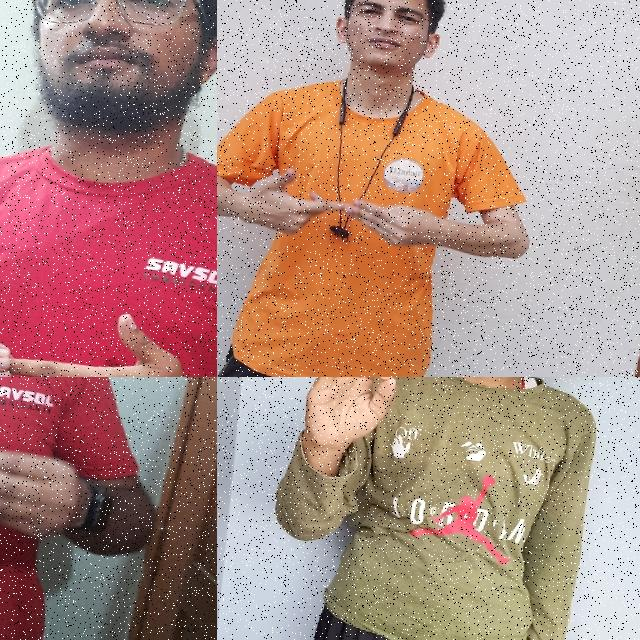Five Fathers: (233, 150, 479, 276), (0, 271, 216, 377), (0, 377, 105, 561)
Okay: (294, 377, 413, 479)
